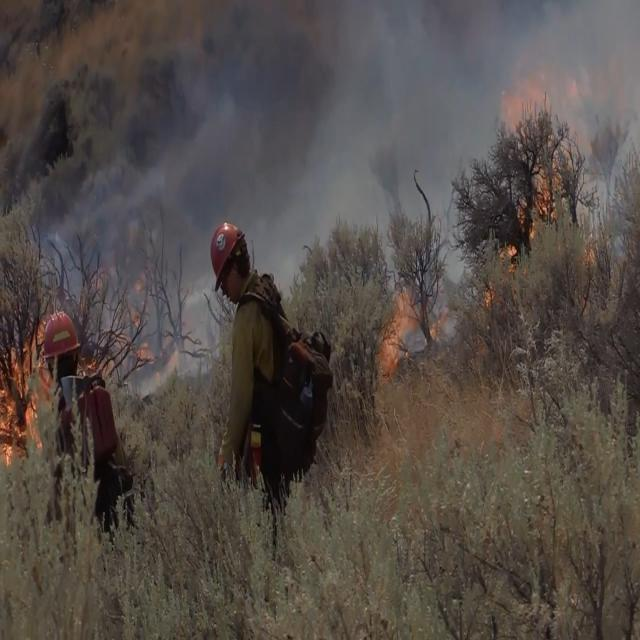Fire: (372, 56, 572, 374)
